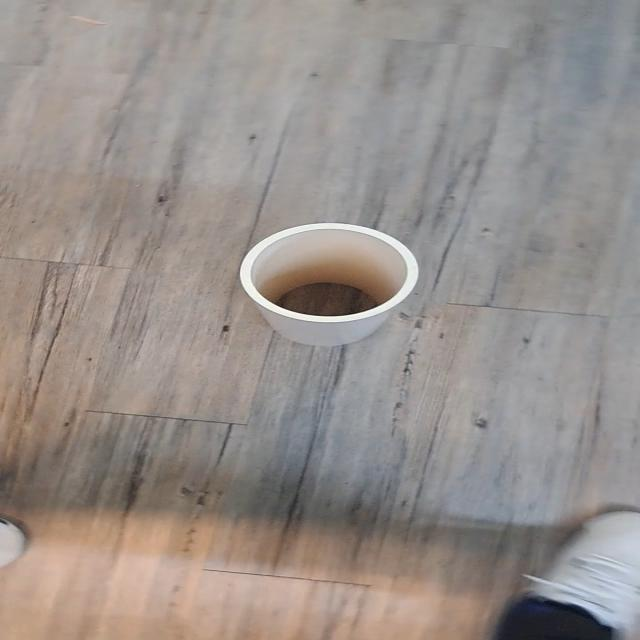CORAL: (205, 204, 440, 369)
